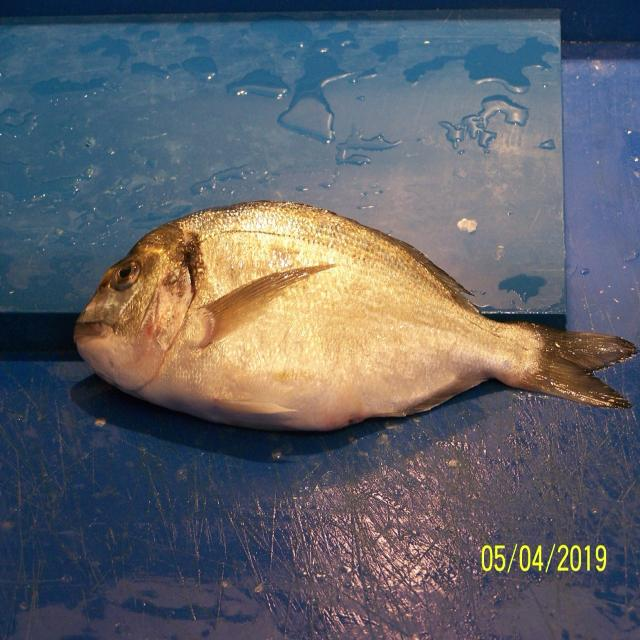Gilt-Head-Bream-c-ipura-: (72, 200, 636, 436)
